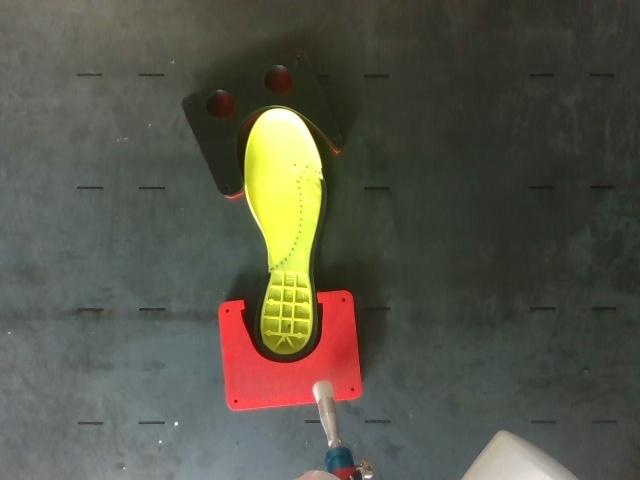shoes: (245, 108, 326, 359)
